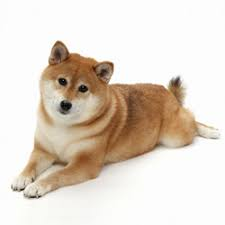dog: (11, 40, 224, 200)
